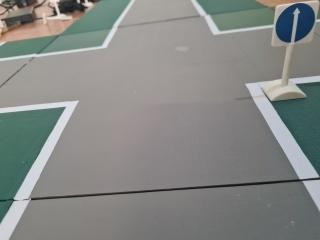straight: (269, 1, 320, 48)
